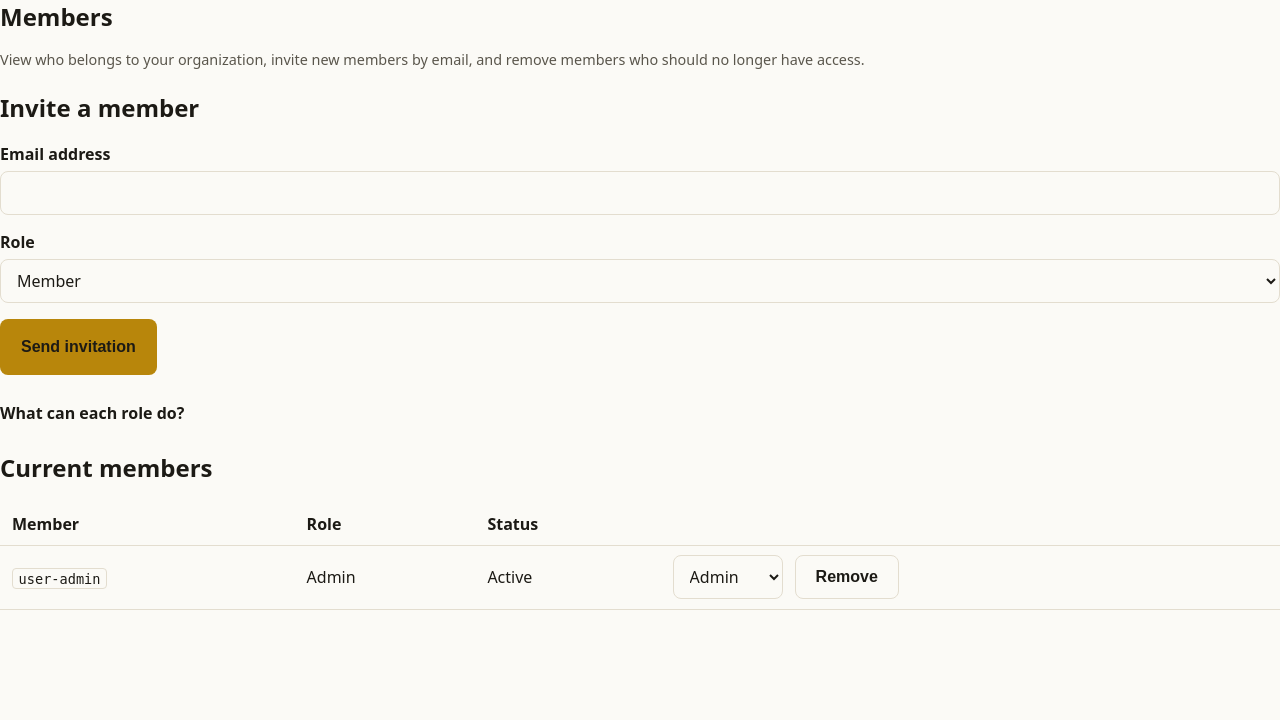
Scenario: MemberManagement — remove (FR-TEN-2, NFR-ROL-1) › surfaces the last-admin guard (409) clearly and keeps the member (D-3)
The width and height of the screenshot is (1280, 720).
Expected: the text "user-admin" is shown, x1=12 y1=568 x2=107 y2=589
Click the button with aria-label "remove member user-admin".
click(847, 577)  # box x1=795 y1=555 x2=899 y2=599
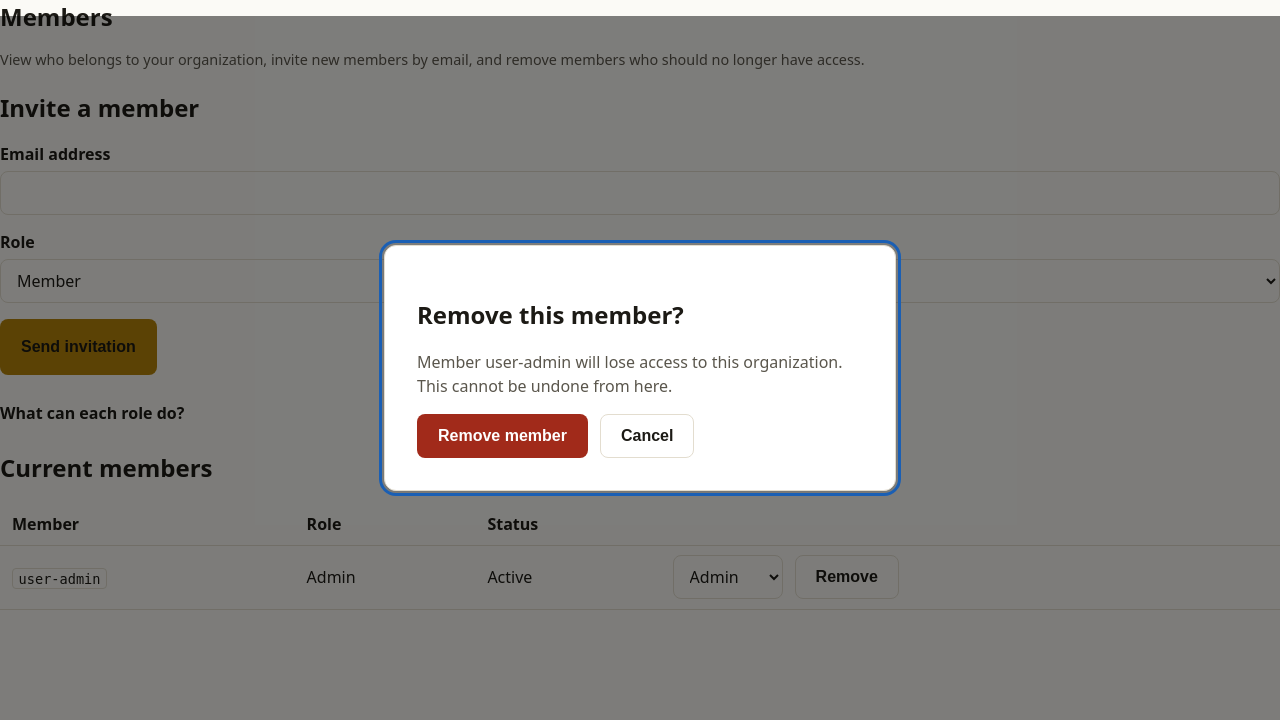
Click the button "Remove member".
click(502, 436)  # box x1=417 y1=414 x2=588 y2=458
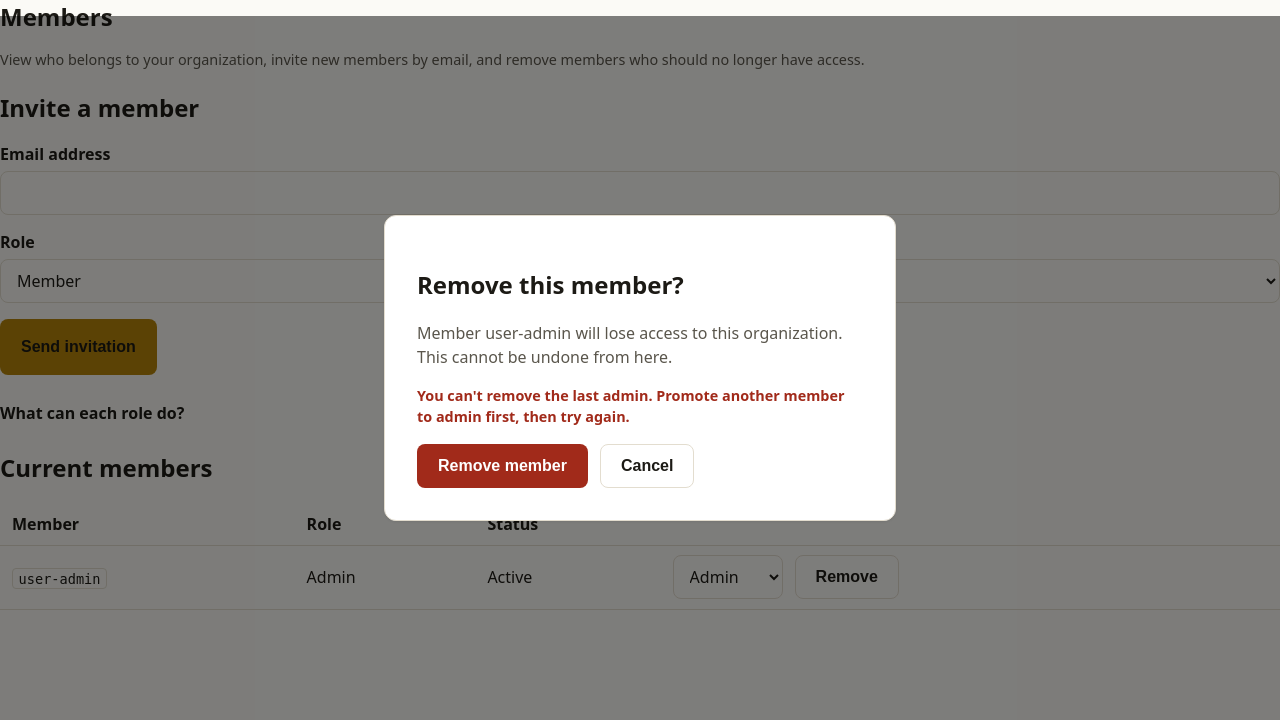
Result: the dialog is shown at x1=384 y1=215 x2=896 y2=521
Result: the text "can't remove the last admin" is shown at x1=417 y1=386 x2=844 y2=426
